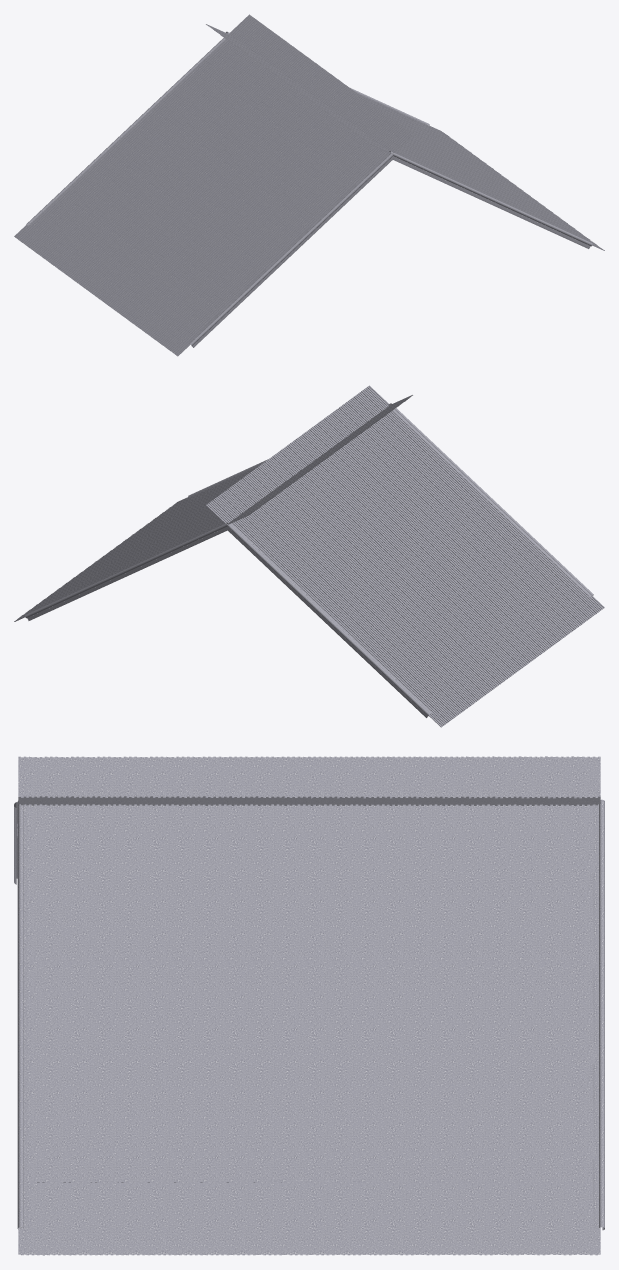
File: Tin Reversed.fbx
3 renders of one model, top to bottom at view 1: azimuth 30°, elevation 25°; view 2: azimuth 150°, elevation 25°; view 3: azimuth 270°, elevation 25°, orthographic. The views are drawn at different scales.
Parts seen in each view (by area): view 1: Tin; view 2: Tin; view 3: Tin.
Part boxes in pixels (x1,y1,x2,y2): Tin: (14,14,604,356); Tin: (14,385,604,727); Tin: (14,756,604,1255).
Size of the model in its own units: 997 by 372 by 670.
Materials: 1 (1 with a texture image).
